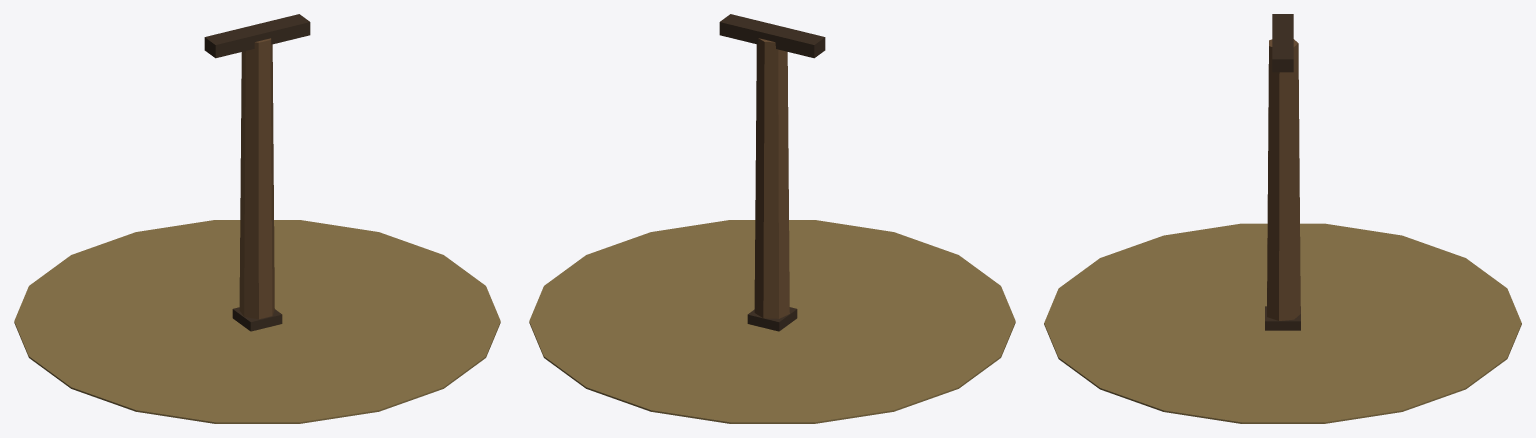
The model's file is s3_mine_beam.glb.
3 views of the same model, side by side, from view 1: azimuth 30°, elevation 25°; view 2: azimuth 150°, elevation 25°; view 3: azimuth 270°, elevation 25° (orthographic).
Visible parts, largest first — view 1: s3_mine_beam; view 2: s3_mine_beam; view 3: s3_mine_beam.
Part boxes in pixels (box(x1,y1,x2,y2)): s3_mine_beam: box(14, 14, 500, 423); s3_mine_beam: box(529, 14, 1015, 423); s3_mine_beam: box(1044, 14, 1521, 423).
Size of the model in its own units: 3.94 by 2.66 by 4.
